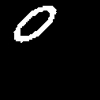chain: (14, 6, 55, 42)
